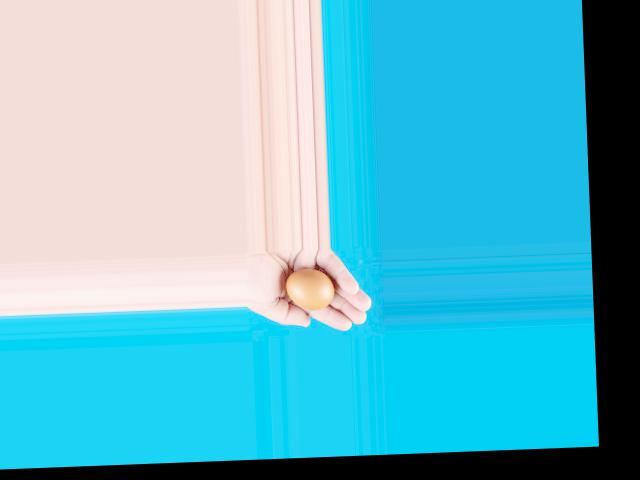egg: (286, 268, 336, 310)
